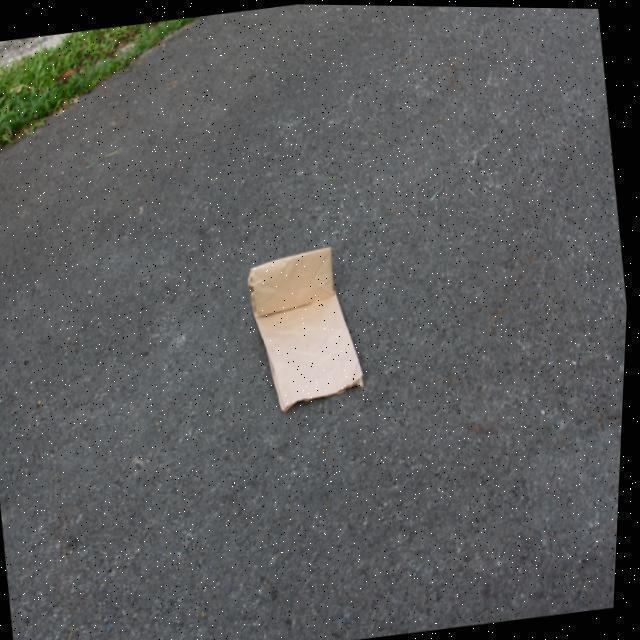Paper_Bag: (242, 241, 376, 416)
